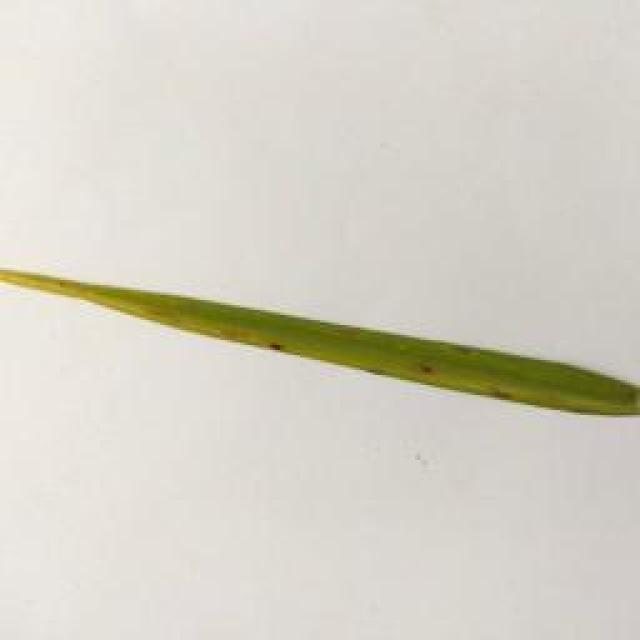Brown_Spot: (482, 386, 540, 417), (438, 334, 482, 360), (360, 364, 402, 386), (264, 332, 287, 359), (415, 362, 440, 380)
